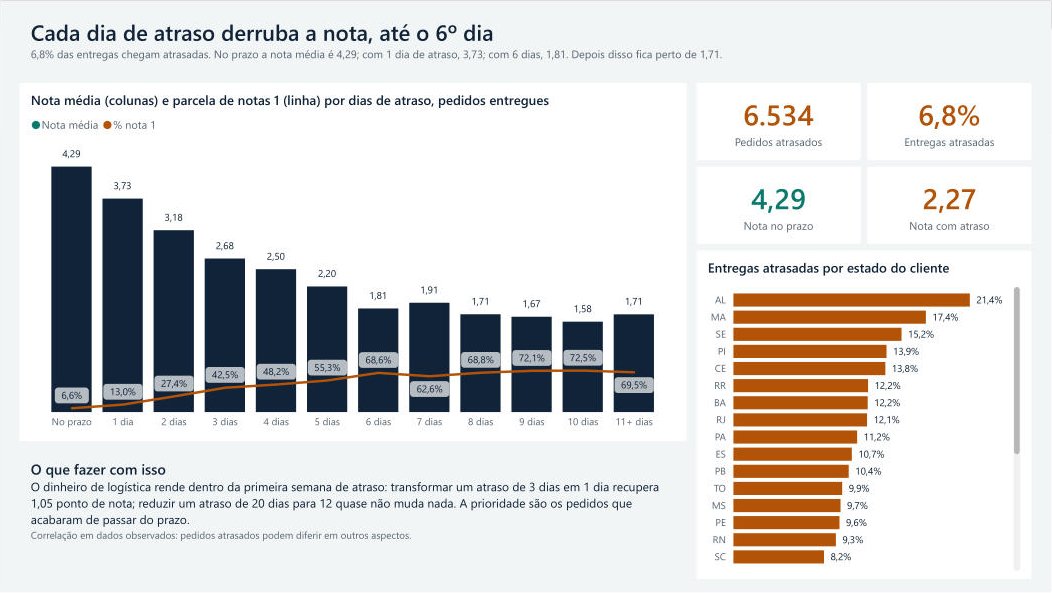

This screenshot's page, from the dashboard's own definition file:
{"tool":"powerbi","page":{"name":"Atraso e nota","canvas":[1280,720],"ordinal":1},"visuals":[{"type":"textbox","box":[24,10,1232,80],"z":1000},{"type":"lineClusteredColumnComboChart","title":"Nota média (colunas) e parcela de notas 1 (linha) por dias de atraso, pedidos entregues","fields":{"Category":["Pedidos.Faixa de atraso"],"Y":["Medidas.Nota média (entregues)"],"Y2":["Medidas.% nota 1 (entregues)"]},"box":[24,100,812,436],"z":2000},{"type":"card","fields":{"Values":["Medidas.Pedidos atrasados"]},"box":[848,100,200,94],"z":3000},{"type":"card","fields":{"Values":["Medidas.% atrasados"]},"box":[1056,100,200,94],"z":4000},{"type":"card","fields":{"Values":["Medidas.Nota no prazo"]},"box":[848,202,200,94],"z":5000},{"type":"card","fields":{"Values":["Medidas.Nota com atraso"]},"box":[1056,202,200,94],"z":6000},{"type":"clusteredBarChart","title":"Entregas atrasadas por estado do cliente","fields":{"Category":["Clientes.Estado"],"Y":["Medidas.% atrasados"]},"box":[848,304,408,400],"z":7000},{"type":"textbox","box":[24,548,812,156],"z":8000}]}

Visuals, with their boxes in screenshot pixels (x1, y1, x2, y2), scaled from the page's 1280x720 canvas onto the 1052x593 screenshot:
textbox: box(20, 8, 1032, 74)
"Nota média (colunas) e parcela de notas 1 (linha) por dias de atraso, pedidos entregues" lineClusteredColumnComboChart: box(20, 82, 687, 441)
card - Medidas.Pedidos atrasados: box(697, 82, 861, 160)
card - Medidas.% atrasados: box(868, 82, 1032, 160)
card - Medidas.Nota no prazo: box(697, 166, 861, 244)
card - Medidas.Nota com atraso: box(868, 166, 1032, 244)
"Entregas atrasadas por estado do cliente" clusteredBarChart: box(697, 250, 1032, 580)
textbox: box(20, 451, 687, 580)
